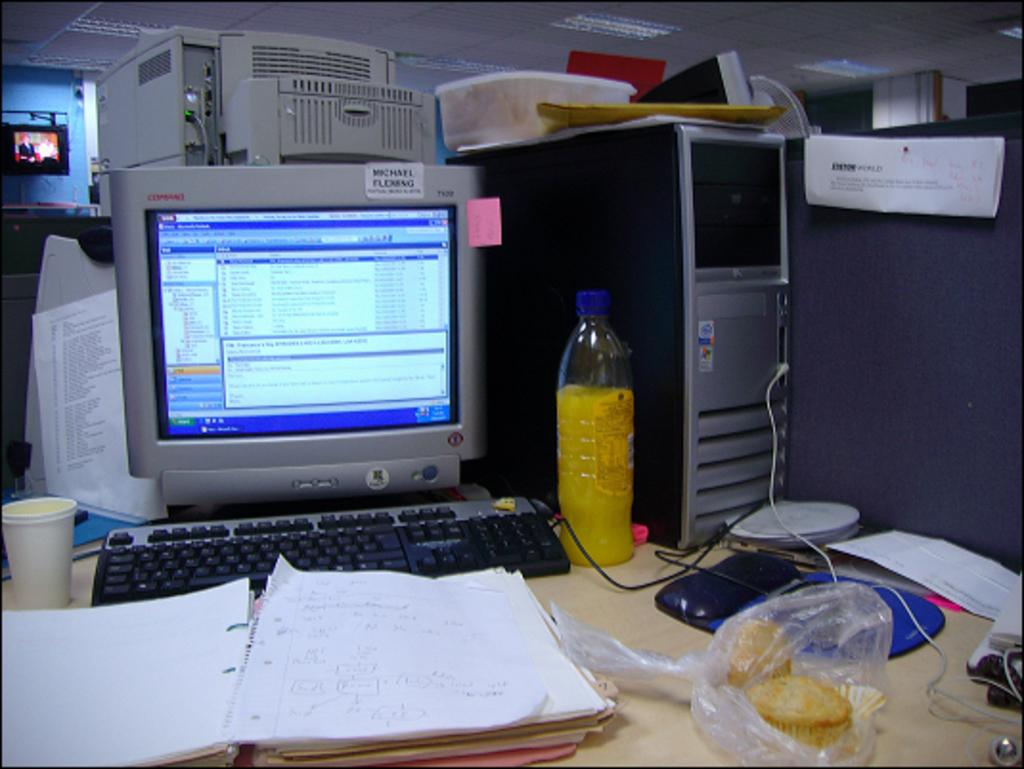Computer-keyboard: (88, 495, 574, 604)
Computer-monitor: (111, 178, 505, 547), (0, 119, 78, 176)
